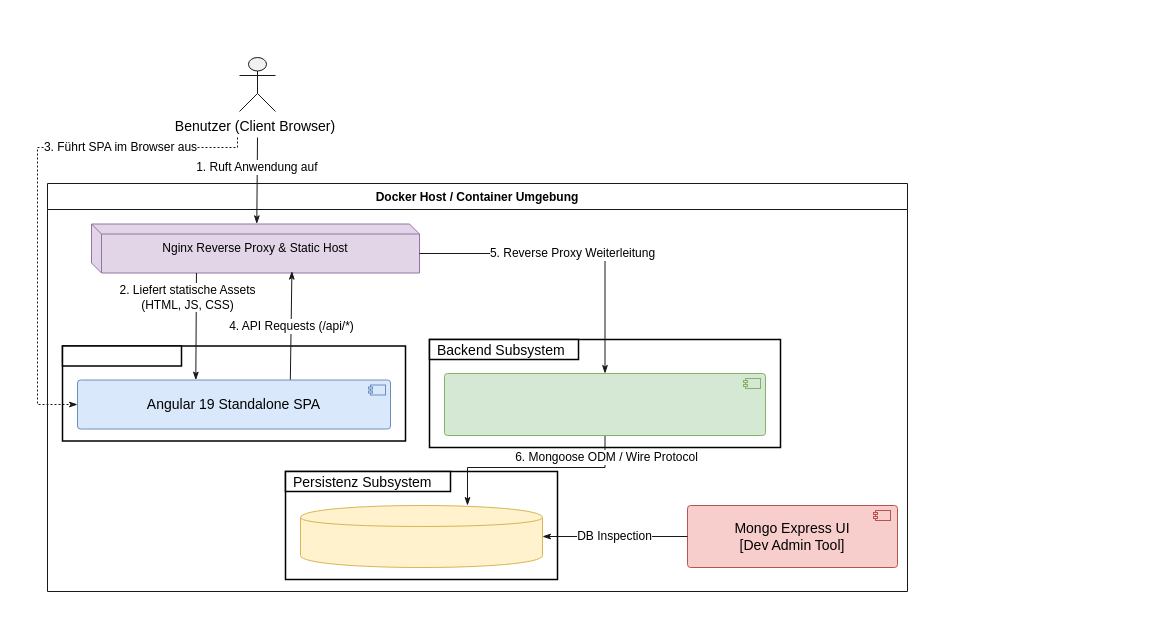
The diagram is 1154 pixels wide and 618 high, and some of its shapes have lost their labels. Each missing label, with the centre of its shape:
Client-Side SPA: (x=121, y=355)
MongoDB 8.0: (x=421, y=536)
NestJS REST API Backend [Global Prefix: /api]: (x=605, y=404)
